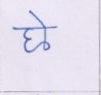o_matra: (38, 15, 51, 51)
